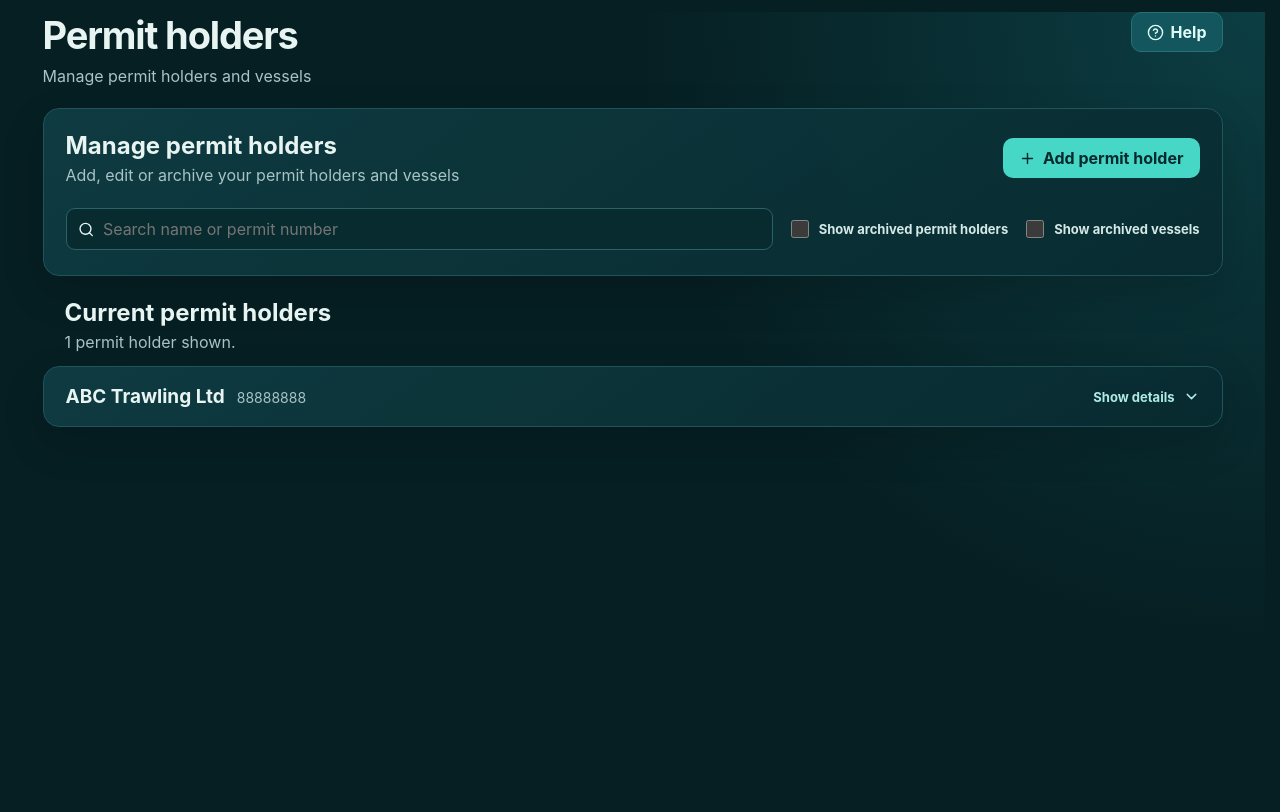
Scenario: labels archived permit holders while collapsed and keeps their filter independent of vessels
This screenshot has width=1280, height=812.
Expected: the text "ABC Trawling Ltd" is shown, [66,385,225,408]
Expected: the text "Dev Fishing Ltd" is not shown
Click the checkbox labelled "Show archived vessels" at (1035, 229), box [1026,220,1044,238]
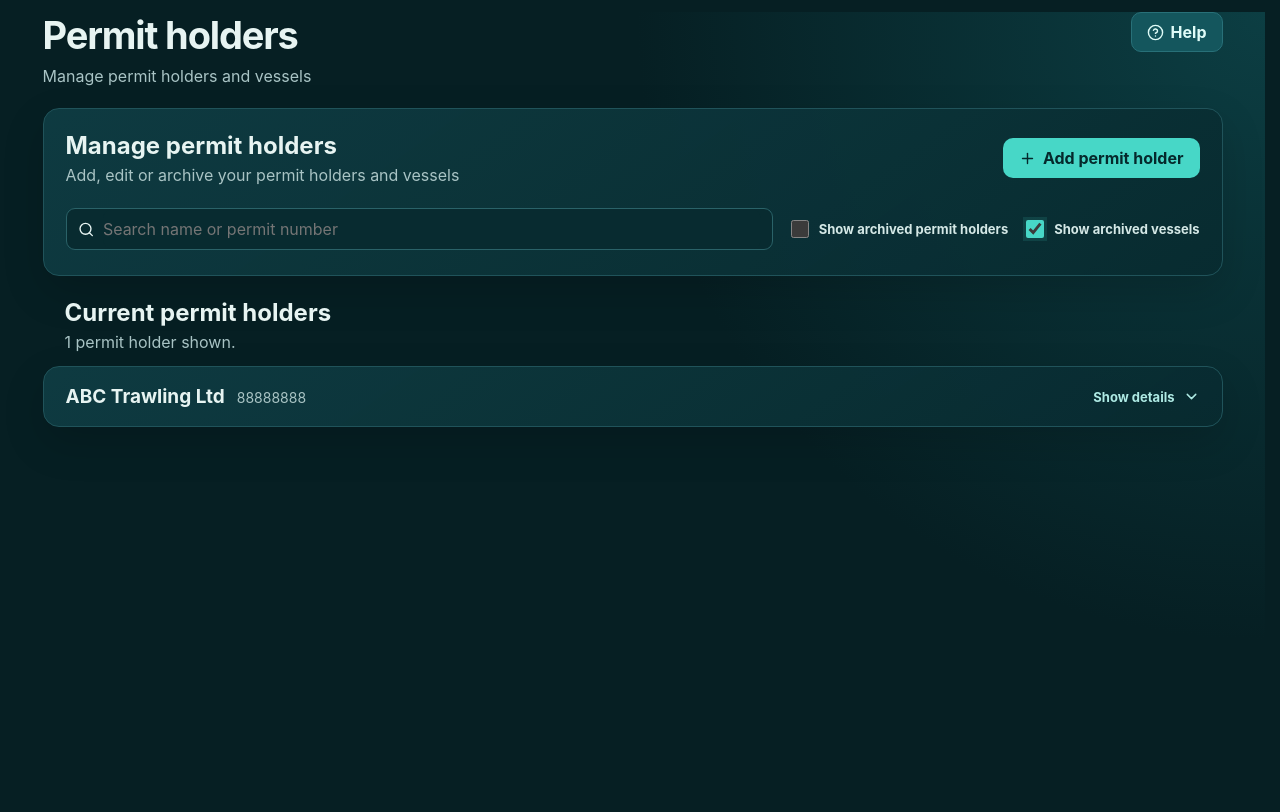
Expected: the text "Dev Fishing Ltd" is not shown
Click the checkbox labelled "Show archived permit holders" at (800, 229), box [791,220,809,238]
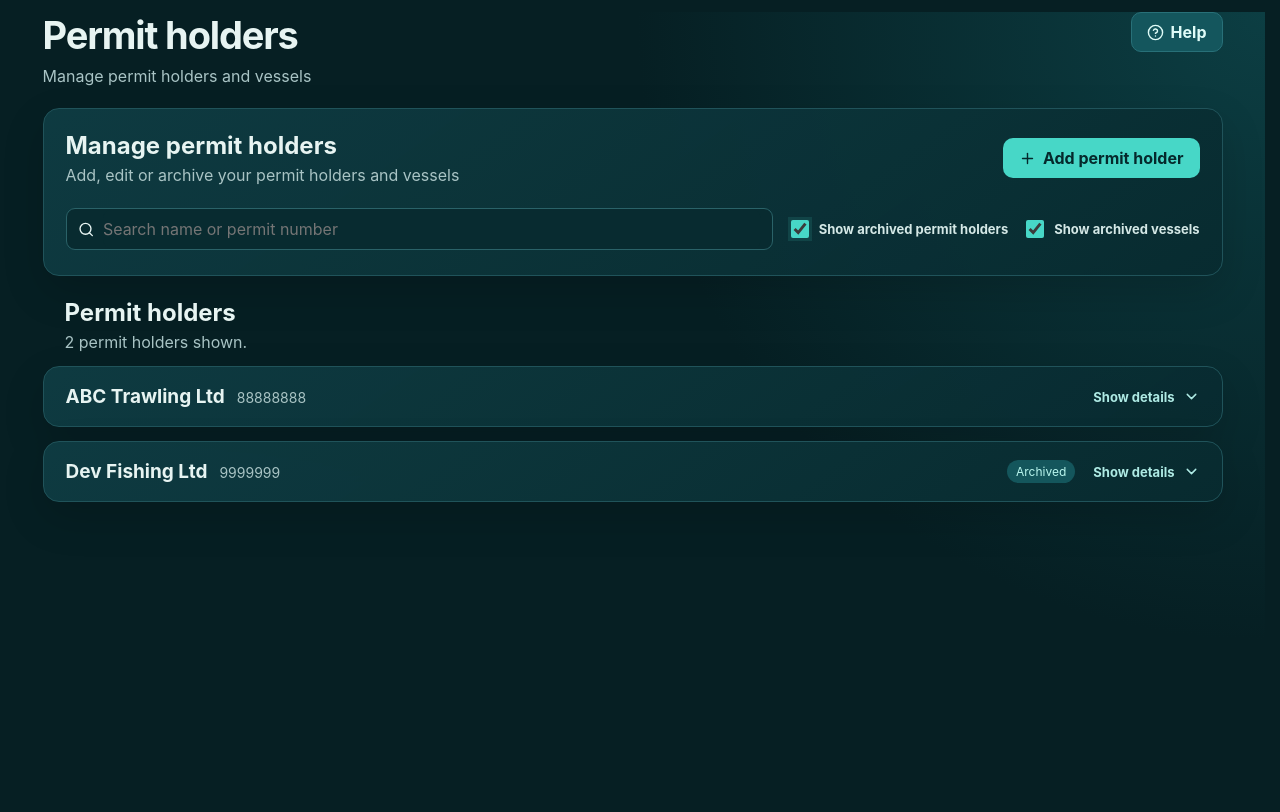
Now the text "Archived" is shown, box [1007,460,1075,483]
Click the heading named "Show or hide details for Dev Fishing Ltd, archived" at (136, 472), box [66,460,1200,483]
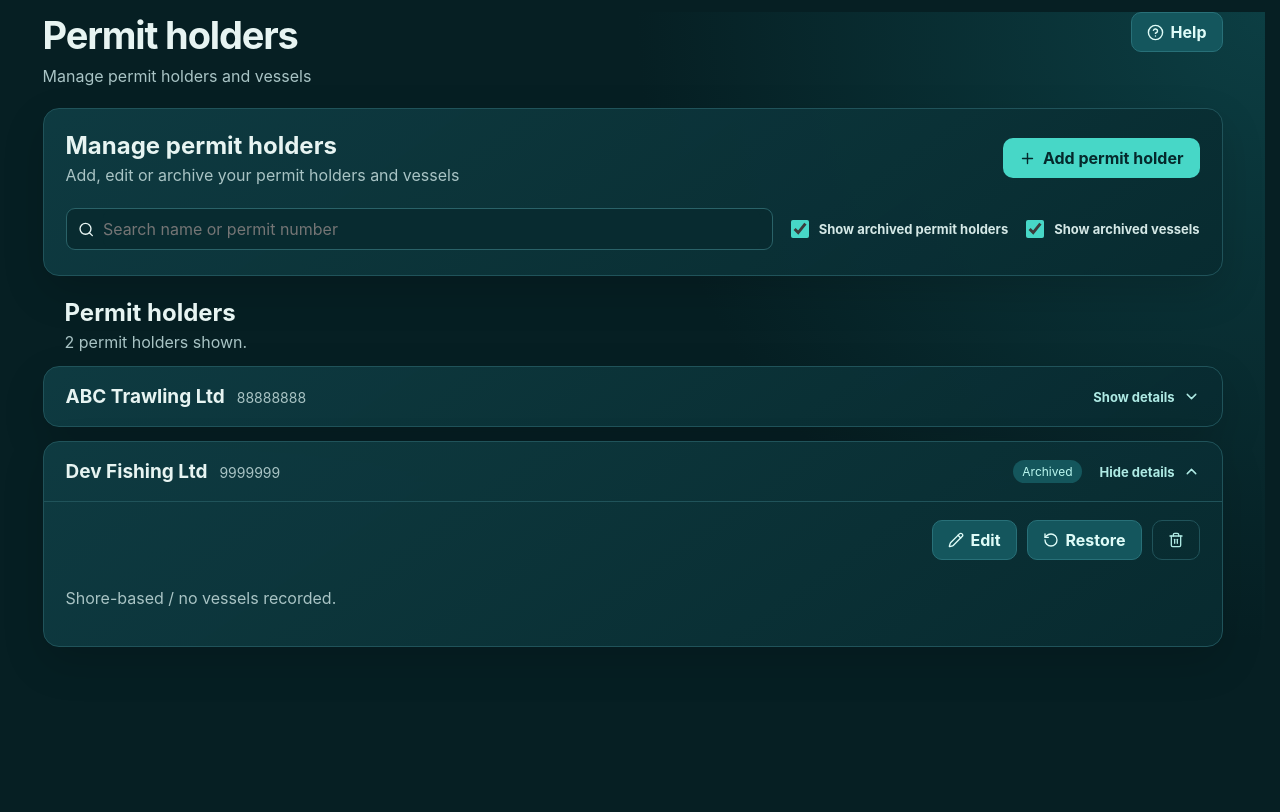
Now the text "Archived" is shown, box [1013,460,1082,483]
Now the button with aria-label "Restore Dev Fishing Ltd" is shown, box [1026,520,1142,560]
Click the heading named "Show or hide details for Dev Fishing Ltd, archived" at (136, 472), box [44,442,1222,502]
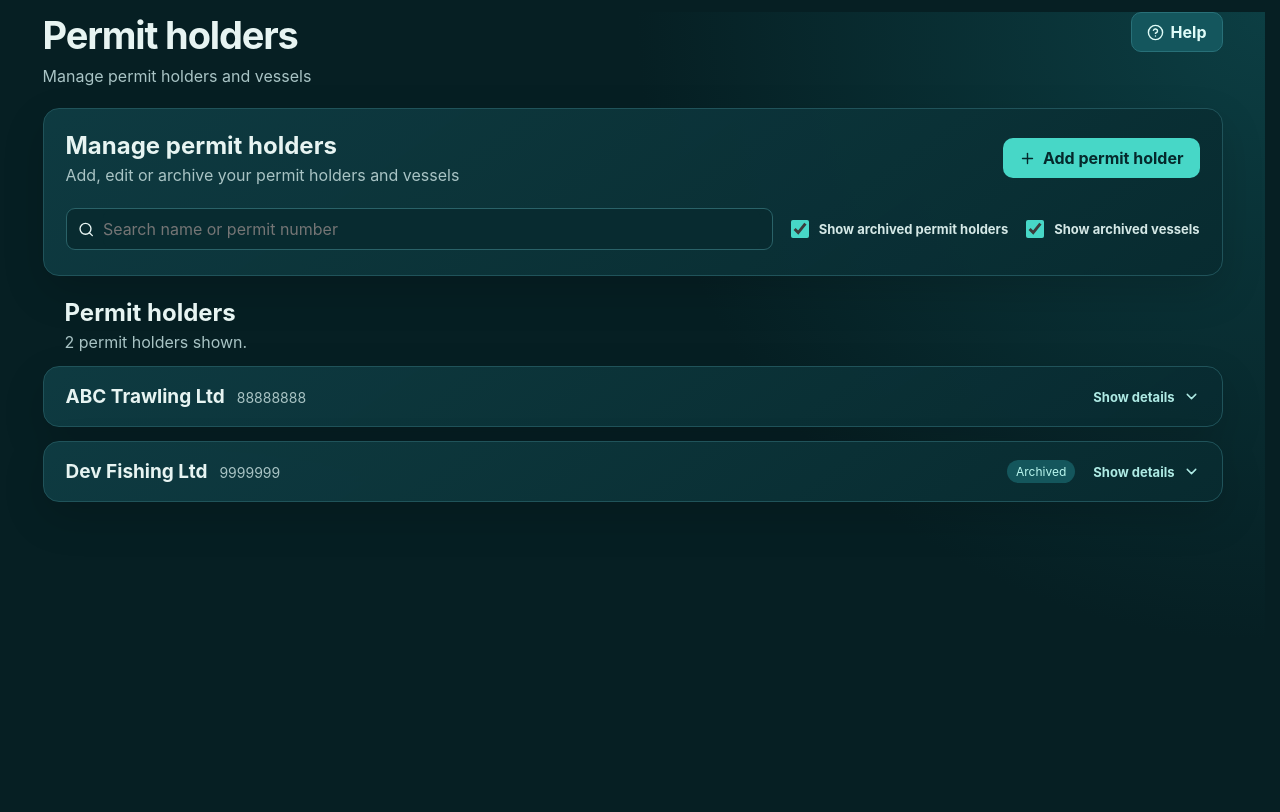
Now the text "Archived" is shown, box [1007,460,1075,483]
Click the checkbox labelled "Show archived permit holders" at (800, 229), box [791,220,809,238]
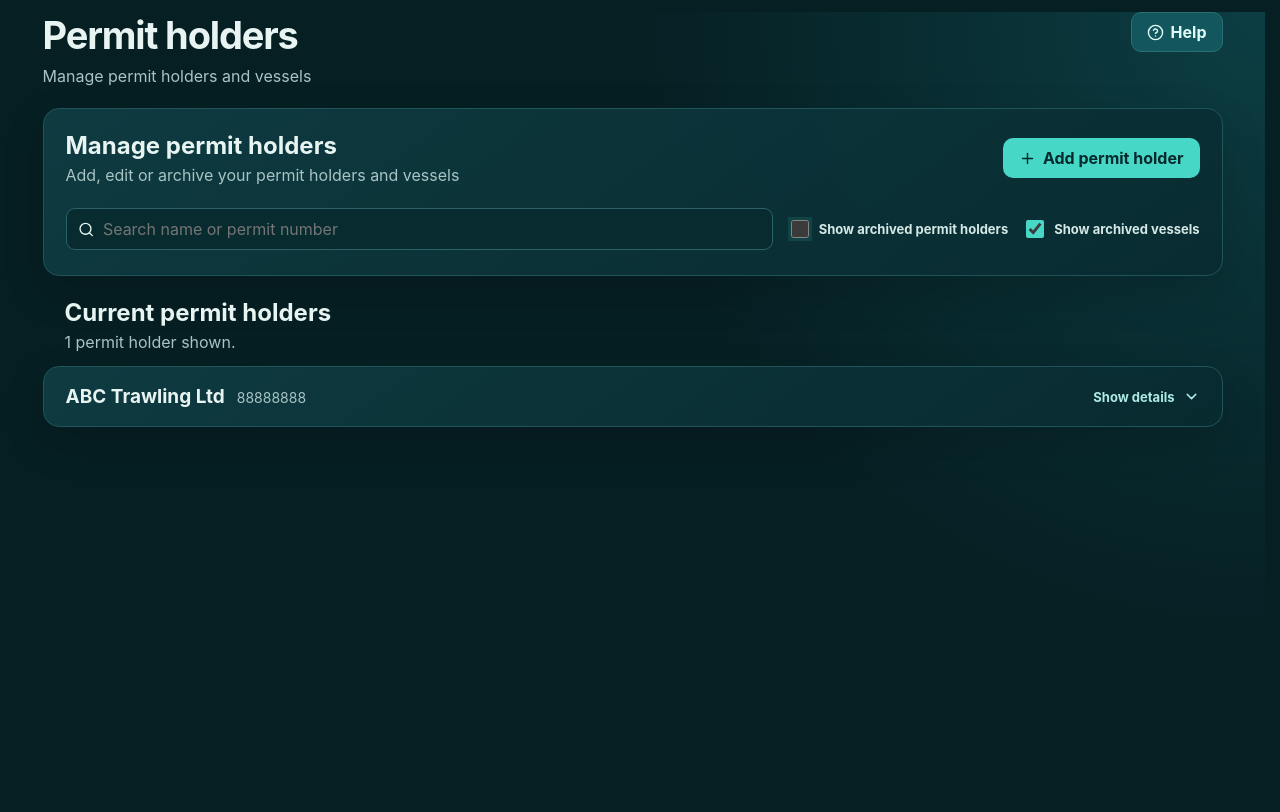
Expected: the text "ABC Trawling Ltd" is shown, [66,385,225,408]
Now the heading "Dev Fishing Ltd" is gone
